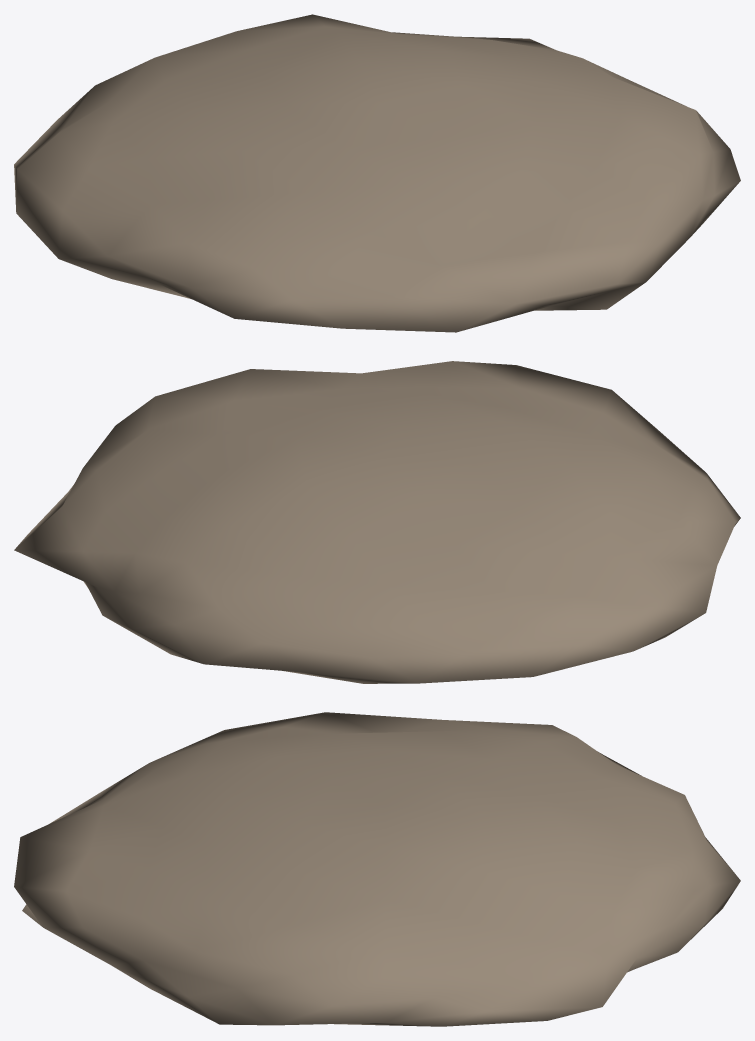
Rendered from RainTurnip_Node_B.fbx.
The picture shows the model from 3 angles, top to bottom: view 1: azimuth 30°, elevation 25°; view 2: azimuth 150°, elevation 25°; view 3: azimuth 270°, elevation 25°; orthographic projection.
Visible parts, largest first — view 1: RainTurnip_Node_B; view 2: RainTurnip_Node_B; view 3: RainTurnip_Node_B.
Part boxes in pixels (<box>): RainTurnip_Node_B: <box>14,14,740,332</box>; RainTurnip_Node_B: <box>14,361,740,683</box>; RainTurnip_Node_B: <box>14,712,740,1026</box>.
Bounding box in the file's own units: 0.5723 × 0.0756 × 0.5821.
